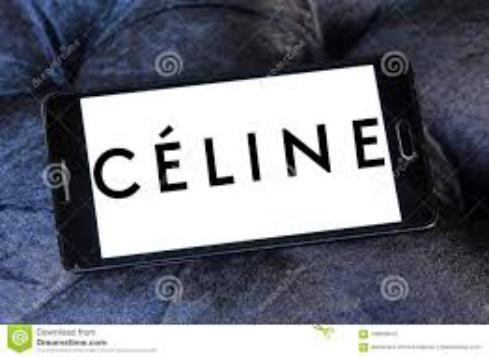CELINE: (93, 115, 391, 202)
